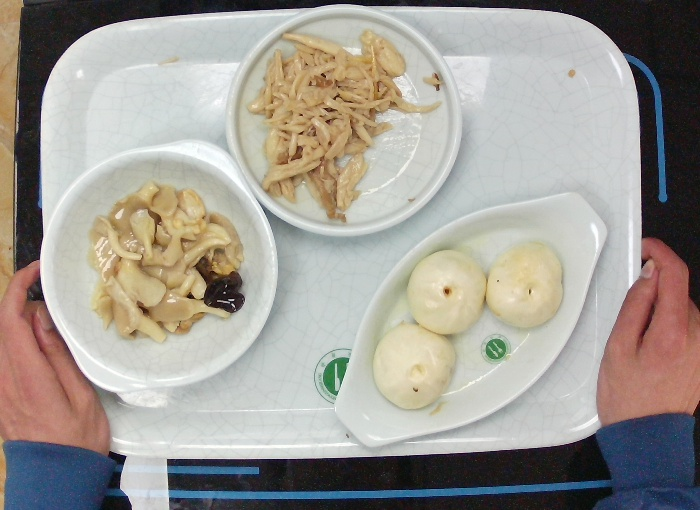JYsf-Shuang_Er_Wan: (38, 133, 280, 404)
JYsf-Xiao_Yuan_Pan: (222, 2, 470, 243)
JYsf-Yu_Pan: (330, 191, 615, 450)
